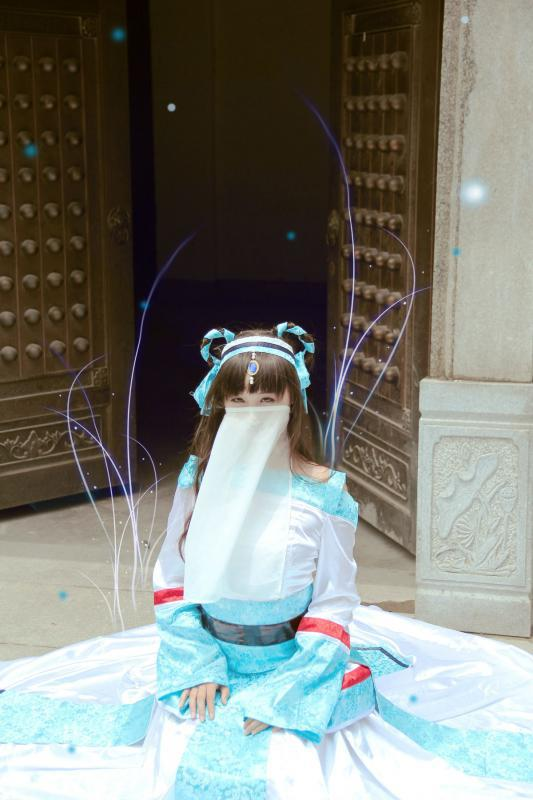OK: (224, 389, 294, 459)
